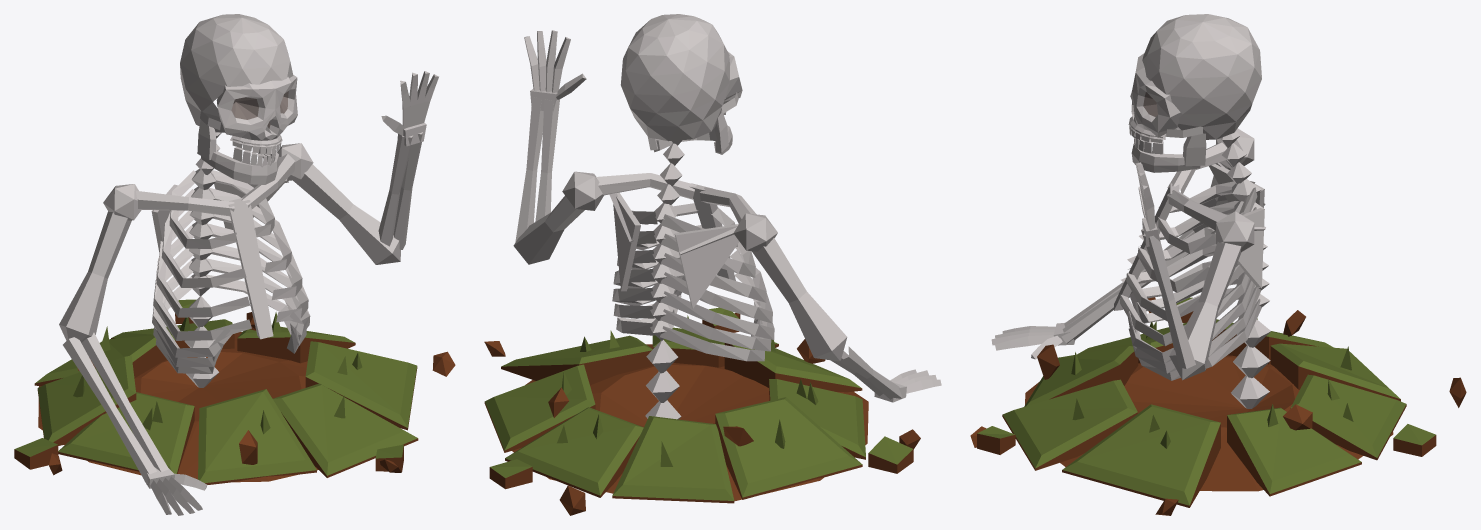
The model's file is skeleton-crawling-out-of-24b6ae.glb.
3 views of the same model, side by side, from view 1: azimuth 30°, elevation 25°; view 2: azimuth 150°, elevation 25°; view 3: azimuth 270°, elevation 25° (orthographic). The views are drawn at different scales.
Visible parts, largest first — view 1: skeleton-body, skeleton-jaw; view 2: skeleton-body, skeleton-jaw; view 3: skeleton-body, skeleton-jaw.
Boxes of the visible parts, box(x1,y1,x2,y2) form: skeleton-body: box(14, 14, 455, 515); skeleton-jaw: box(197, 119, 279, 184); skeleton-body: box(484, 14, 941, 515); skeleton-jaw: box(648, 110, 732, 154); skeleton-body: box(970, 14, 1466, 515); skeleton-jaw: box(1131, 128, 1206, 172).
Size of the model in its own units: 0.9559 by 0.8418 by 0.9452.
